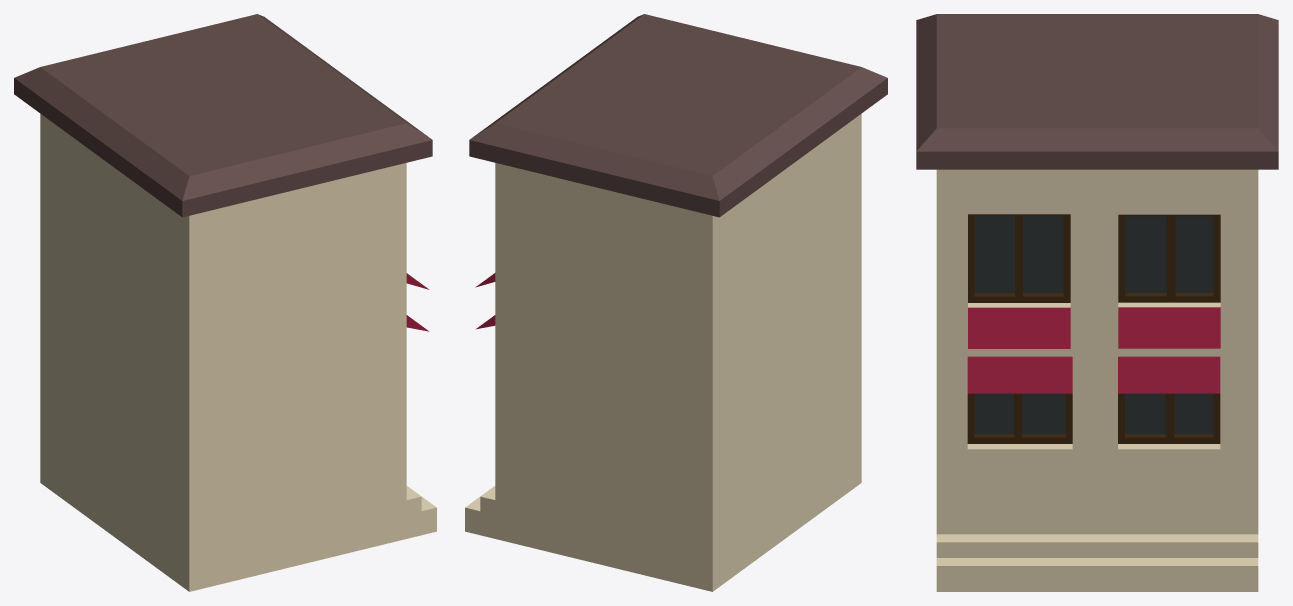
File: house3.fbx
3 views of the same model, side by side, from view 1: azimuth 30°, elevation 25°; view 2: azimuth 150°, elevation 25°; view 3: azimuth 270°, elevation 25° (orthographic). The views are drawn at different scales.
Visible parts, largest first — view 1: House3; view 2: House3; view 3: House3.
Part boxes in pixels (x1,y1,x2,y2): House3: (14, 14, 436, 591); House3: (465, 14, 887, 591); House3: (916, 14, 1278, 591).
Bounding box in the file's own units: 1244 × 1820 × 1335.
